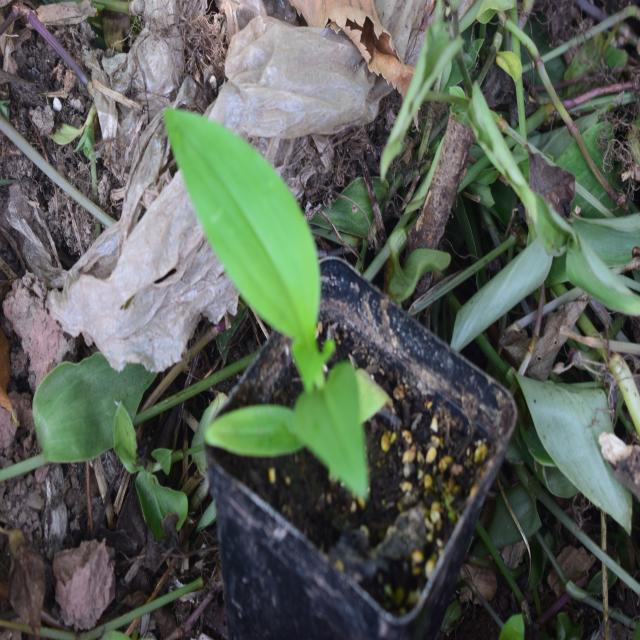Common Dayflower: (181, 109, 377, 506)
